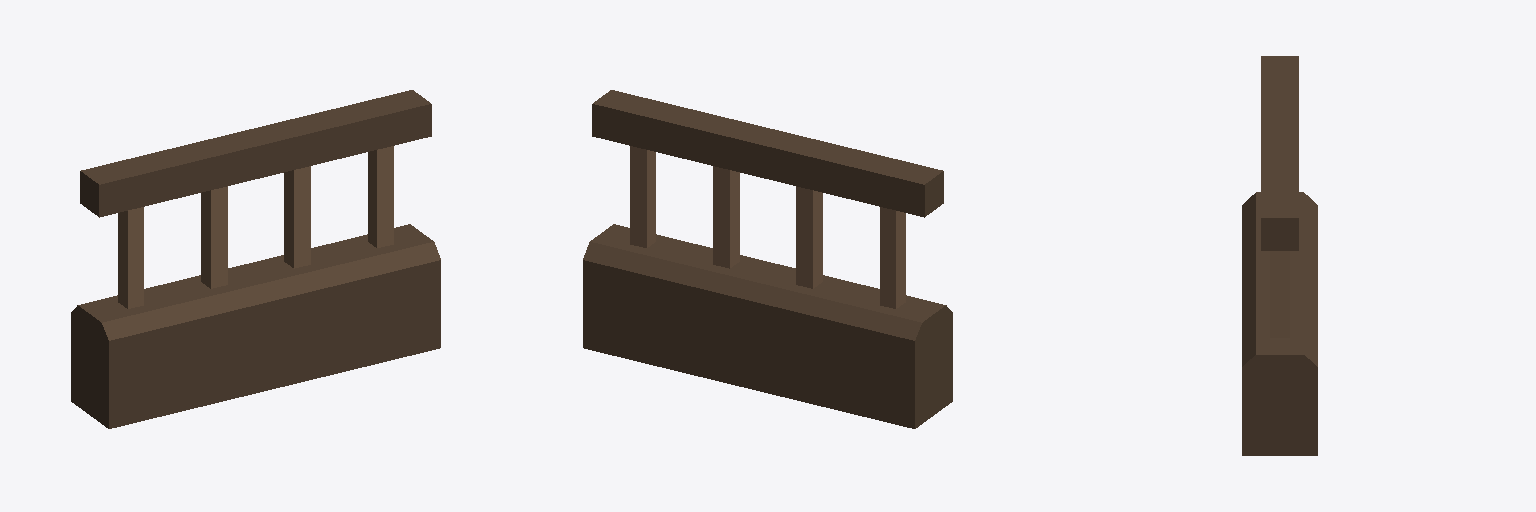
The model's file is Wood_Railing_Straight.obj.
The picture shows the model from 3 angles: view 1: azimuth 30°, elevation 25°; view 2: azimuth 150°, elevation 25°; view 3: azimuth 270°, elevation 25°; orthographic projection.
Visible parts, largest first — view 1: object3, object1, object4, object2, object6, object5; view 2: object3, object1, object4, object2, object6, object5; view 3: object3, object1, object6.
Part boxes in pixels (x1,y1,x2,y2): object3: (71, 224, 440, 428); object1: (80, 90, 431, 217); object4: (201, 186, 227, 288); object2: (284, 166, 310, 268); object6: (368, 146, 393, 247); object5: (118, 207, 143, 308); object3: (583, 224, 952, 428); object1: (592, 90, 943, 217); object4: (796, 186, 822, 288); object2: (713, 166, 739, 268); object6: (630, 146, 655, 247); object5: (880, 207, 905, 308); object3: (1242, 192, 1317, 455); object1: (1261, 56, 1298, 250); object6: (1270, 251, 1289, 337).
Bounding box in the file's own units: 1 × 0.6826 × 0.2.